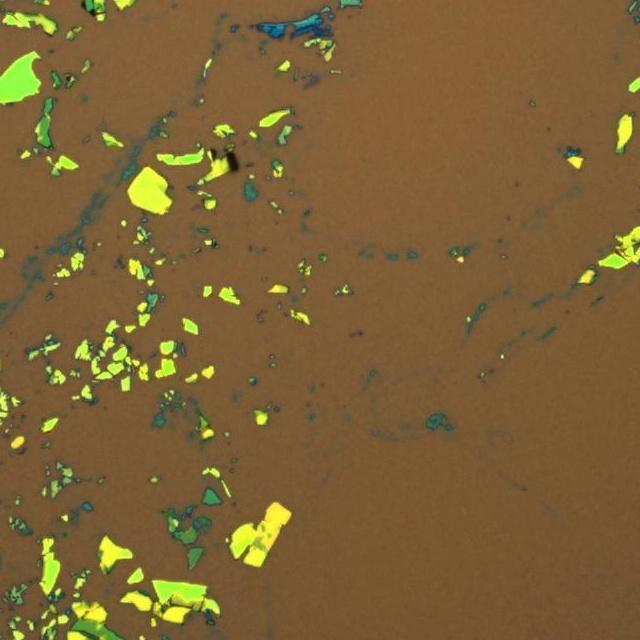monolayer-eWW4: (301, 74, 322, 90)
